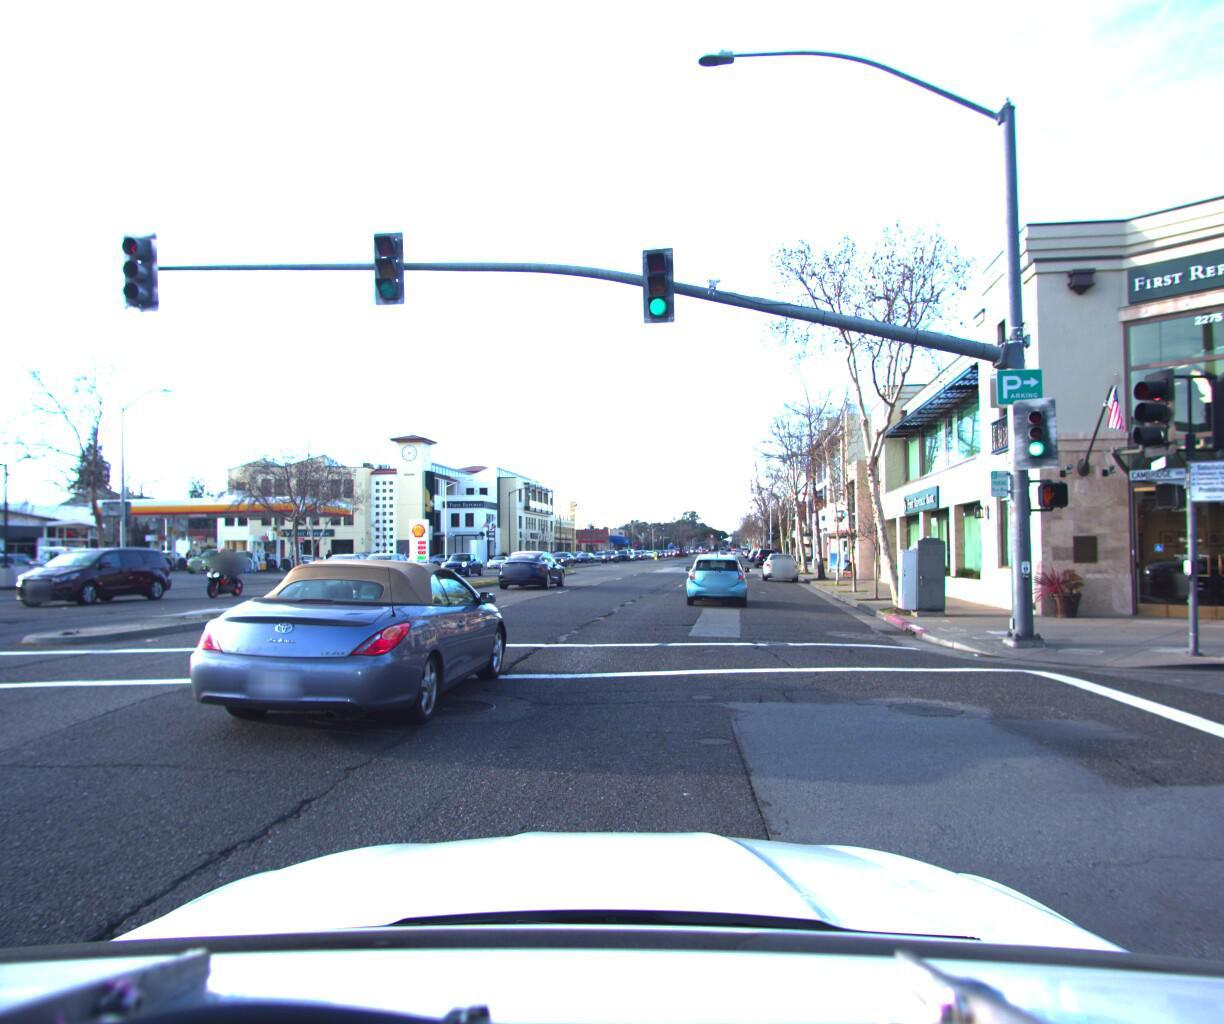car: (191, 554, 527, 758), (7, 540, 181, 608), (0, 543, 116, 590), (685, 548, 747, 607), (498, 546, 567, 588), (340, 550, 421, 584), (306, 549, 381, 583), (182, 547, 245, 574), (436, 546, 487, 575), (761, 548, 797, 580), (543, 547, 573, 565), (753, 544, 777, 565), (0, 554, 3, 587)
motorcycle: (193, 542, 254, 595)
